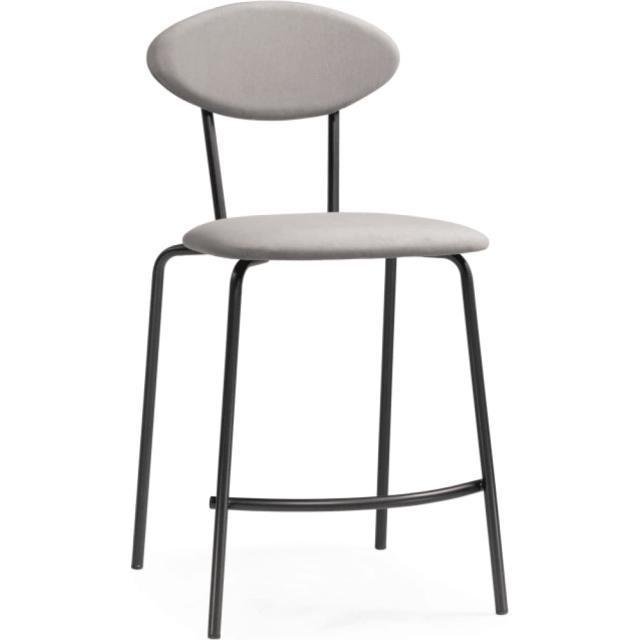chair: (124, 0, 516, 640), (143, 2, 490, 260)
